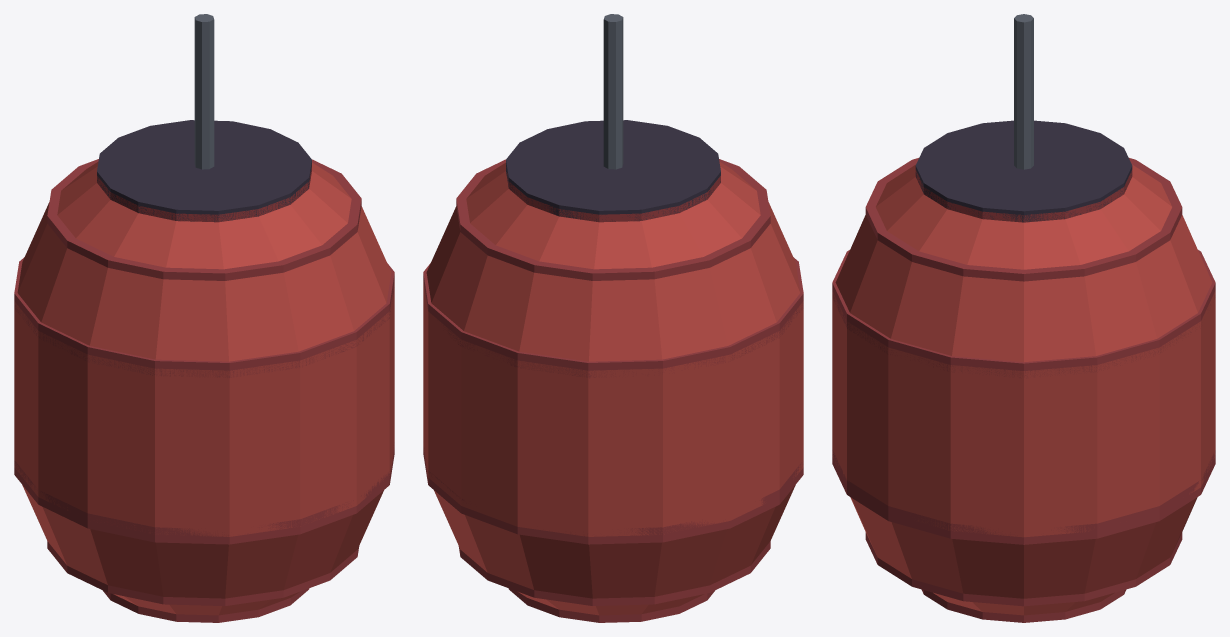
Rendered from SM_Ramen_Lantern.fbx.
3 views of the same model, side by side, from view 1: azimuth 30°, elevation 25°; view 2: azimuth 150°, elevation 25°; view 3: azimuth 270°, elevation 25° (orthographic).
Visible parts, largest first — view 1: SM_Ramen_Lantern; view 2: SM_Ramen_Lantern; view 3: SM_Ramen_Lantern.
Boxes of the visible parts, <box> form: SM_Ramen_Lantern: <box>14,14,394,622</box>; SM_Ramen_Lantern: <box>423,14,803,622</box>; SM_Ramen_Lantern: <box>832,14,1215,622</box>.
Bounding box in the file's own units: 0.46 × 0.46 × 0.74.
